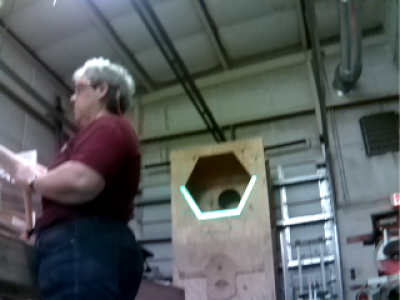target: (180, 175, 258, 220)
